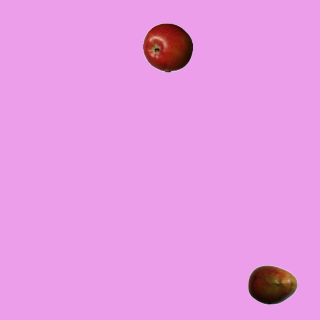Apple Braeburn: (142, 22, 192, 72)
Mango Red: (247, 259, 297, 309)
